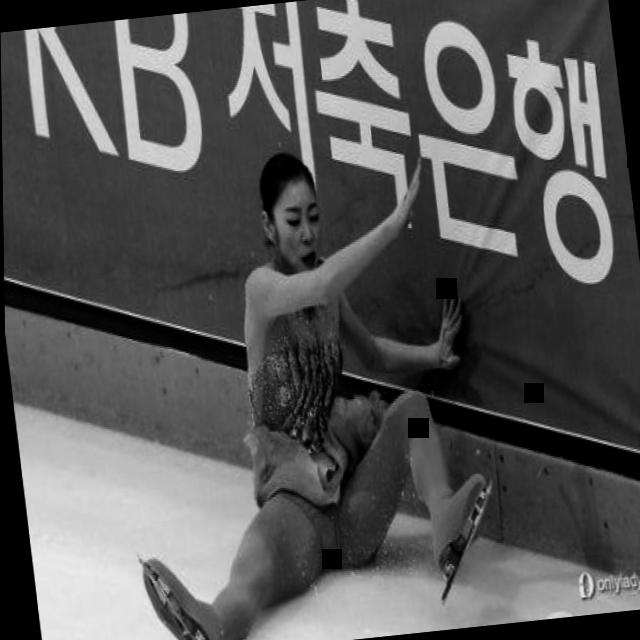Fall-Detected: (85, 110, 525, 640)
